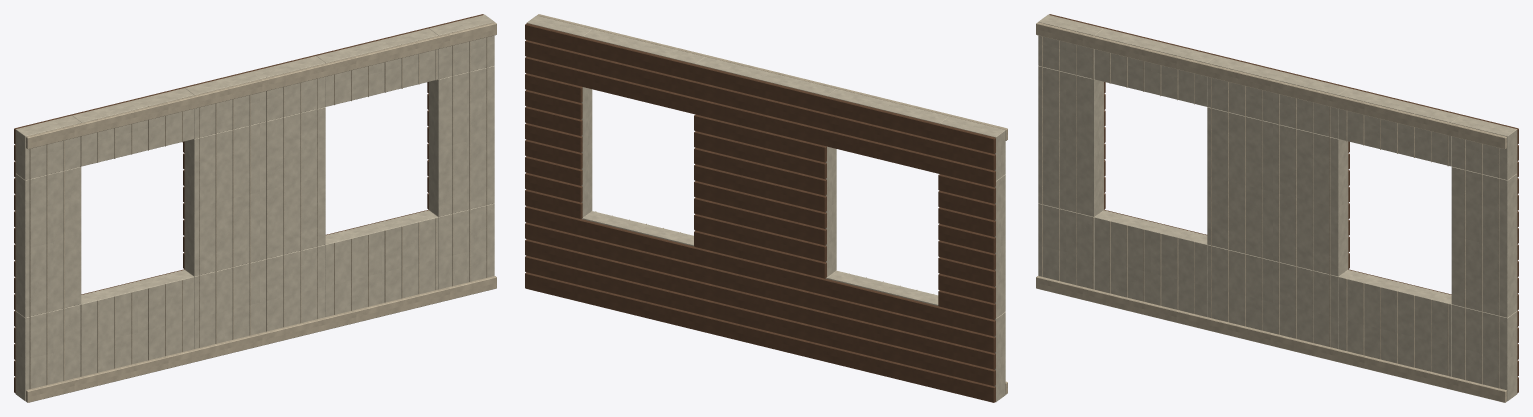
Rendered from cabin_wall_back.glb.
3 views of the same model, side by side, from view 1: azimuth 30°, elevation 25°; view 2: azimuth 150°, elevation 25°; view 3: azimuth 330°, elevation 25° (orthographic).
Parts seen in each view (by area): view 1: Wall_with_openings.001; view 2: Wall_with_openings.001; view 3: Wall_with_openings.001.
Part boxes in pixels (x1,y1,x2,y2): Wall_with_openings.001: [14, 14, 496, 402]; Wall_with_openings.001: [525, 14, 1007, 402]; Wall_with_openings.001: [1036, 14, 1518, 402].
Size of the model in its own units: 5 by 2.7 by 0.256.
Materials: 3 (3 with a texture image).
